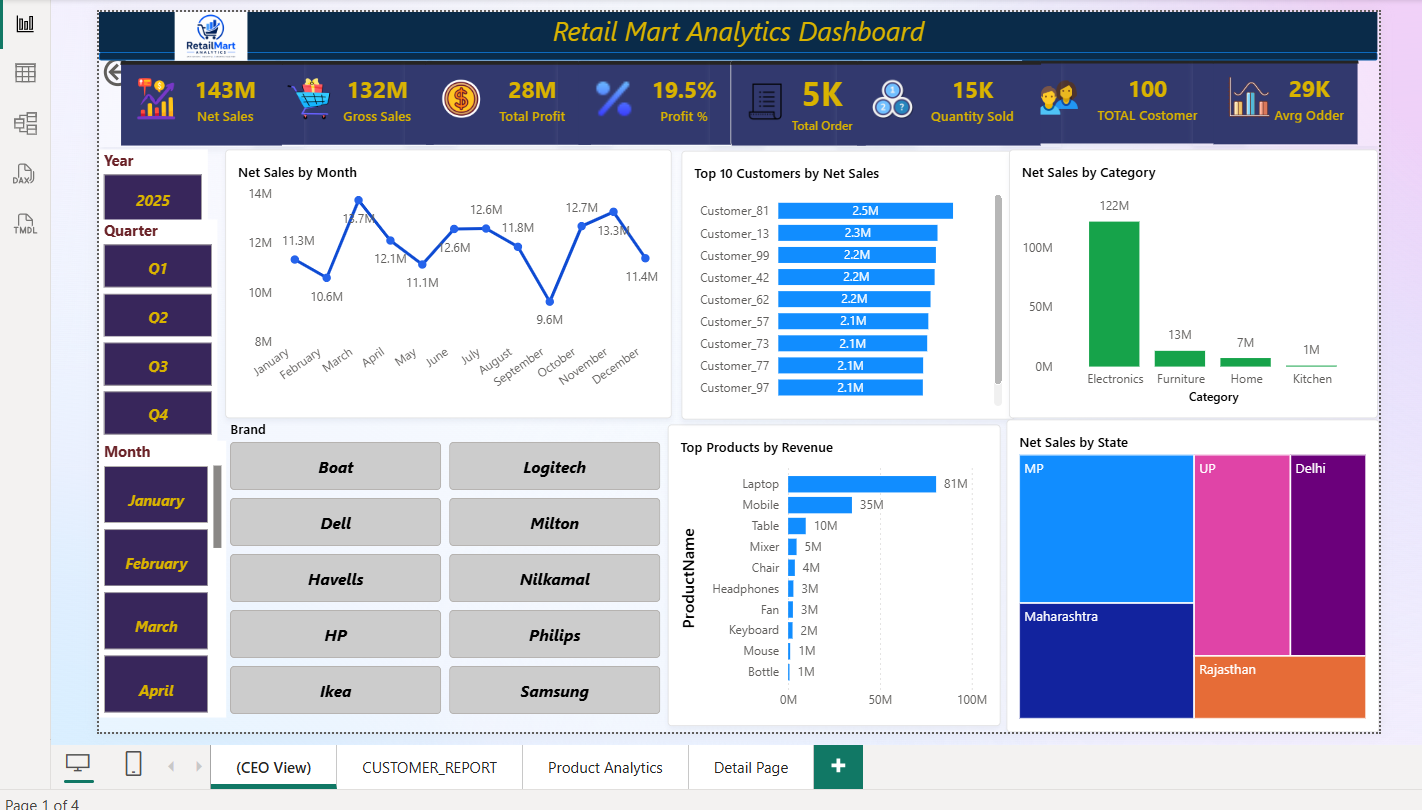

Layout of this report page (visuals, bound fields, positions):
{"tool":"powerbi","page":{"name":"(CEO View)","canvas":[1280,720],"ordinal":0},"visuals":[{"type":"actionButton","box":[0,40.9,100,37.7],"z":0},{"type":"cardVisual","fields":{"Data":["Fact Order Table.Total Sales"]},"box":[153.7,48.8,203,85.7],"z":0,"group":"g4"},{"type":"group","id":"g1","title":"Group 1","box":[1.2,48,1278.4,87.2],"z":1000},{"type":"cardVisual","fields":{"Data":["Fact Order Table.Total sales without discount"]},"box":[1.2,48.8,203.8,86.2],"z":1000,"group":"g4"},{"type":"lineChart","fields":{"Y":["Fact Order Table.Net Sales"],"Category":["Dim Calender.Month Hierarchy.Month"]},"box":[126.2,137.5,446.1,268.5],"z":1000,"group":"g3"},{"type":"cardVisual","fields":{"Data":["Fact Order Table.Total Profit"]},"box":[306.3,48.8,207.6,85.7],"z":2000,"group":"g4"},{"type":"group","id":"g2","title":"Group 2","box":[0,137.5,127.5,568.8],"z":2000},{"type":"cardVisual","fields":{"Data":["Fact Order Table.Profit Percent"]},"box":[458.8,48.8,206.4,85.7],"z":3000,"group":"g4"},{"type":"clusteredBarChart","title":"Top 10 Customers by Net Sales","fields":{"Category":["Dim Customer Table.CustomerName"],"Y":["Fact Order Table.Net Sales"]},"box":[582.1,138.9,333.8,268.6],"z":3000,"group":"g3"},{"type":"clusteredBarChart","title":"Top Products by Revenue","fields":{"Category":["Dim Product Table.ProductName"],"Y":["Fact Order Table.Net Sales"]},"box":[569.2,412.8,333.2,301.9],"z":3000},{"type":"cardVisual","fields":{"Data":["Fact Order Table.Total Order"]},"box":[611.3,48.8,206.4,85.7],"z":4000,"group":"g4"},{"type":"group","id":"g3","title":"Group 3","box":[126.2,137.5,1152.5,270],"z":4000},{"type":"shape","title":"Retail Mart Analytics Dashboard","box":[0,0,1278.8,48.8],"z":5000},{"type":"cardVisual","fields":{"Data":["Fact Order Table.Total Unique Costomer"]},"box":[902.1,48,245,85],"z":5000,"group":"g4"},{"type":"lineClusteredColumnComboChart","fields":{"Category":["Dim Product Table.Category"],"Y":["Fact Order Table.Net Sales"]},"box":[909.6,137.5,369.1,268.5],"z":5000,"group":"g3"},{"type":"cardVisual","fields":{"Data":["Fact Order Table.Total Quantity Sold"]},"box":[737.4,49,225,86.2],"z":6000,"group":"g4"},{"type":"treemap","fields":{"Group":["Dim Customer Table.State"],"Values":["Fact Order Table.Net Sales"]},"box":[907.3,407.5,372.7,312.5],"z":6000},{"type":"image","box":[1.2,0,221.2,48.8],"z":7000},{"type":"cardVisual","fields":{"Data":["Fact Order Table.Avrg Odder"]},"box":[1093.4,48,186.2,86.2],"z":7000,"group":"g4"},{"type":"advancedSlicerVisual","fields":{"Values":["Dim Calender.Year"]},"box":[0,137.5,109,78.6],"z":7000,"group":"g2"},{"type":"advancedSlicerVisual","fields":{"Values":["Dim Calender.Quarter"]},"box":[0,207.7,118.3,221.5],"z":8000,"group":"g2"},{"type":"advancedSlicerVisual","fields":{"Values":["Dim Product Table.Brand"]},"box":[126.2,407.5,440.5,300.8],"z":8000},{"type":"advancedSlicerVisual","fields":{"Values":["Dim Calender.Month"]},"box":[0,429.1,127.5,277.1],"z":9000,"group":"g2"},{"type":"group","id":"g4","title":"Group 5","box":[1.2,48,1278.4,87.2],"z":10006,"group":"g1"}]}

Visuals, with their boxes on the page's 1280x720 design canvas (x1, y1, x2, y2). These are canvas units, not pixel positions in the 1422x810 screenshot, which may show the page scaled, cropped or inside an application window:
actionButton: crop(0, 41, 100, 79)
cardVisual - Fact Order Table.Total Sales: crop(154, 49, 357, 134)
"Group 1" group: crop(1, 48, 1280, 135)
cardVisual - Fact Order Table.Total sales without discount: crop(1, 49, 205, 135)
lineChart - Fact Order Table.Net Sales x Dim Calender.Month Hierarchy.Month: crop(126, 138, 572, 406)
cardVisual - Fact Order Table.Total Profit: crop(306, 49, 514, 134)
"Group 2" group: crop(0, 138, 128, 706)
cardVisual - Fact Order Table.Profit Percent: crop(459, 49, 665, 134)
"Top 10 Customers by Net Sales" clusteredBarChart: crop(582, 139, 916, 408)
"Top Products by Revenue" clusteredBarChart: crop(569, 413, 902, 715)
cardVisual - Fact Order Table.Total Order: crop(611, 49, 818, 134)
"Group 3" group: crop(126, 138, 1279, 408)
"Retail Mart Analytics Dashboard" shape: crop(0, 0, 1279, 49)
cardVisual - Fact Order Table.Total Unique Costomer: crop(902, 48, 1147, 133)
lineClusteredColumnComboChart - Dim Product Table.Category x Fact Order Table.Net Sales: crop(910, 138, 1279, 406)
cardVisual - Fact Order Table.Total Quantity Sold: crop(737, 49, 962, 135)
treemap - Dim Customer Table.State x Fact Order Table.Net Sales: crop(907, 408, 1280, 720)
image: crop(1, 0, 222, 49)
cardVisual - Fact Order Table.Avrg Odder: crop(1093, 48, 1280, 134)
advancedSlicerVisual - Dim Calender.Year: crop(0, 138, 109, 216)
advancedSlicerVisual - Dim Calender.Quarter: crop(0, 208, 118, 429)
advancedSlicerVisual - Dim Product Table.Brand: crop(126, 408, 567, 708)
advancedSlicerVisual - Dim Calender.Month: crop(0, 429, 128, 706)
"Group 5" group: crop(1, 48, 1280, 135)
